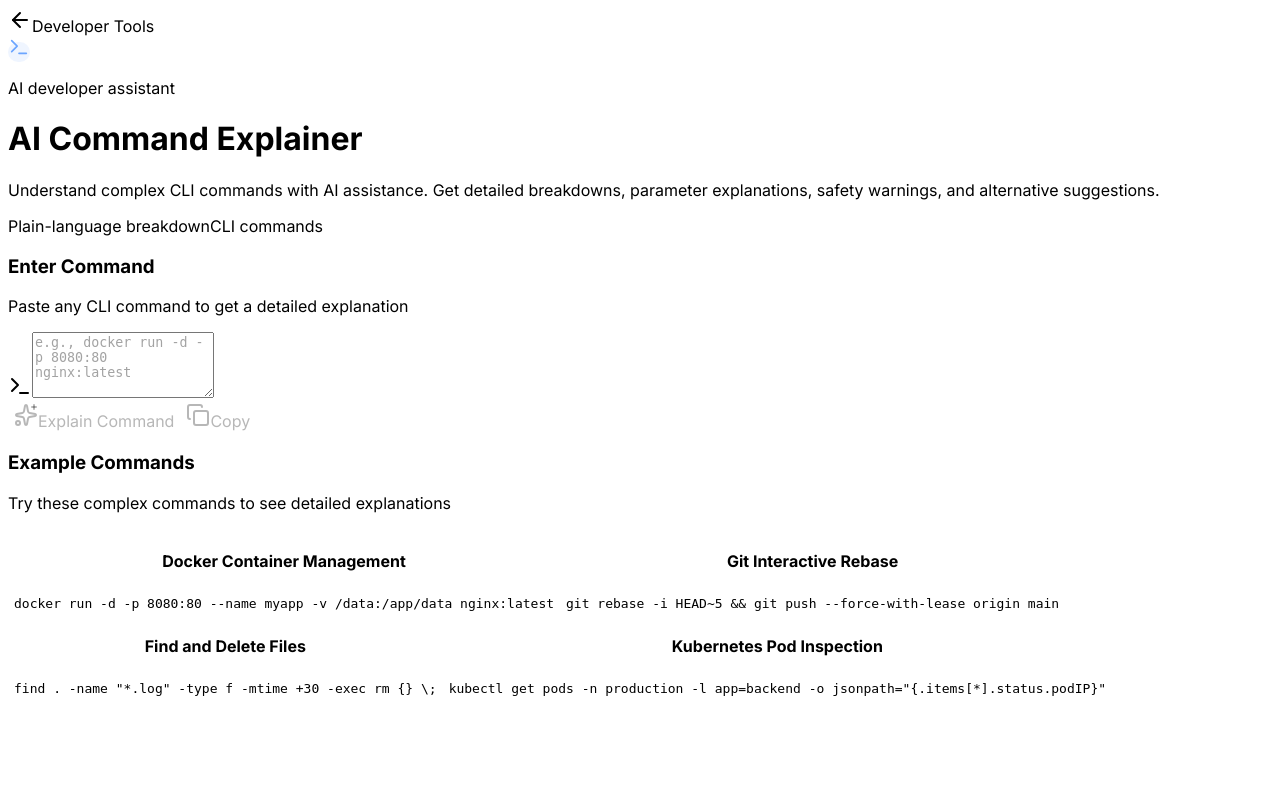
Test: AI Command Explainer - Explanation Tests › should explain command successfully
The width and height of the screenshot is (1280, 787).
Type "docker ps -a" into the text box with placeholder "e.g., docker run -d -p 8080:80 nginx:latest" at (123, 365), box [32,332,214,398]
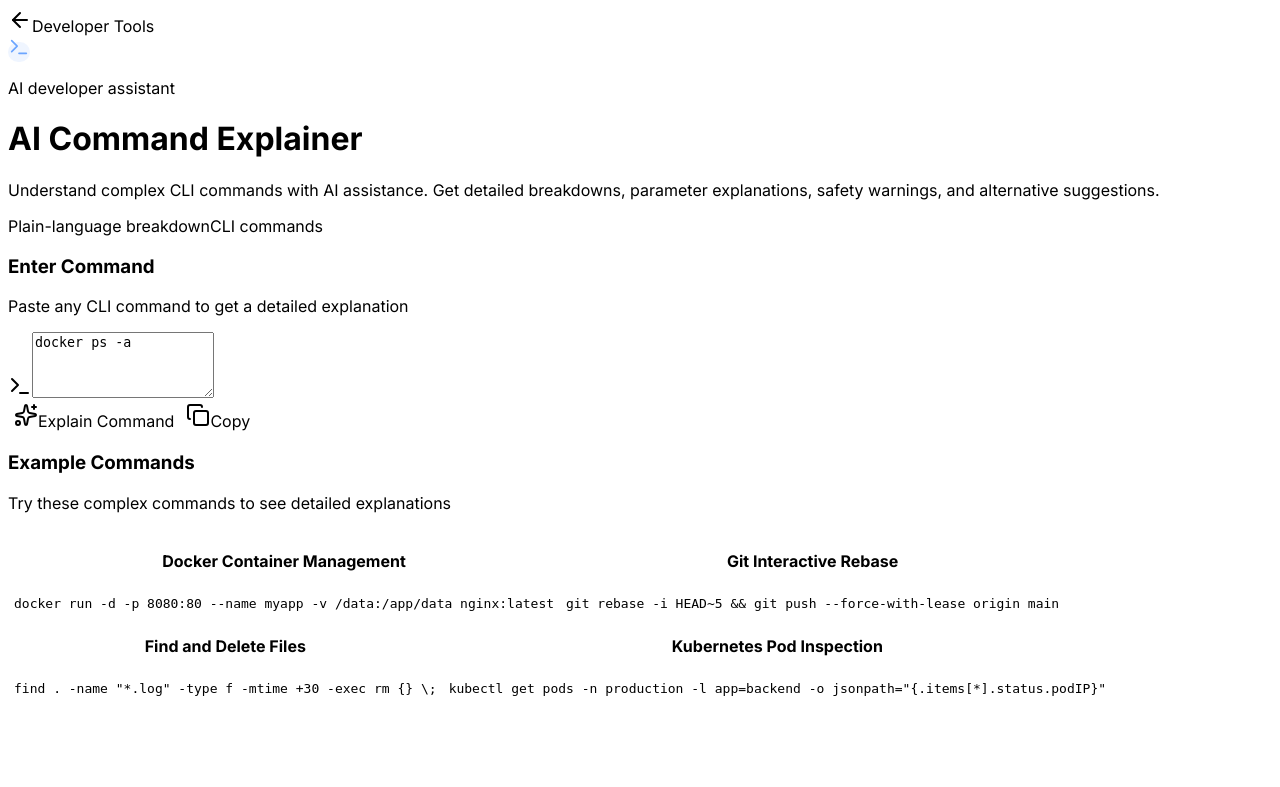
Click the button "Explain Command" at (94, 417), box [8,402,180,432]
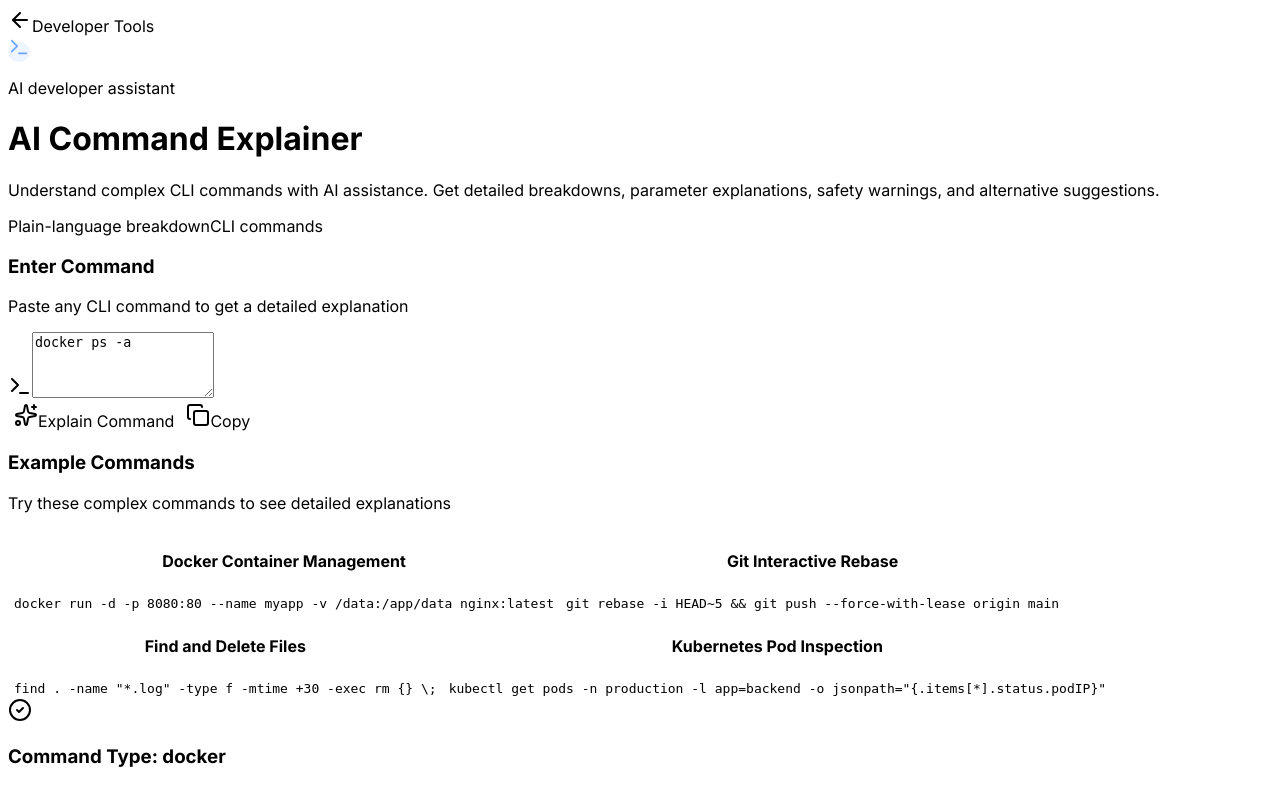
Result: the text "Command Type: docker" is shown at [8,744,226,768]
